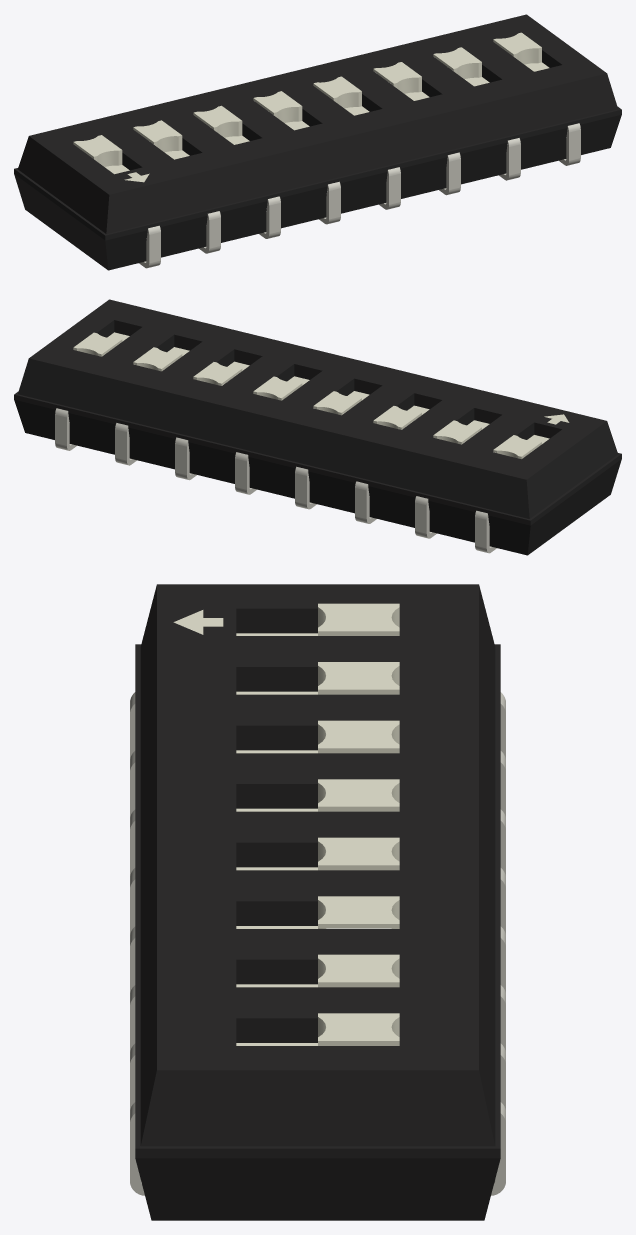
File: kc-sw_dip_spstx08_slide_6.7x21.88mm_w6.73mm_p2.54mm_lowprofile_jpin.glb
3 renders of one model, top to bottom at view 1: azimuth 30°, elevation 25°; view 2: azimuth 150°, elevation 25°; view 3: azimuth 270°, elevation 25°, orthographic. The views are drawn at different scales.
Visible parts, largest first — view 1: 0_0_0_0, 0.75_0.75_0.6666666666666666_0, 0.6666666666666666_0.6666666666666666_0.5833333333333334_0.8; view 2: 0_0_0_0, 0.75_0.75_0.6666666666666666_0, 0.6666666666666666_0.6666666666666666_0.5833333333333334_0.8; view 3: 0_0_0_0, 0.75_0.75_0.6666666666666666_0, 0.6666666666666666_0.6666666666666666_0.5833333333333334_0.8.
Part boxes in pixels (box(x1,y1,x2,y2)): 0_0_0_0: box(14, 14, 621, 270); 0.75_0.75_0.6666666666666666_0: box(73, 32, 549, 182); 0.6666666666666666_0.6666666666666666_0.5833333333333334_0.8: box(139, 123, 580, 268); 0_0_0_0: box(14, 299, 621, 555); 0.75_0.75_0.6666666666666666_0: box(73, 332, 569, 459); 0.6666666666666666_0.6666666666666666_0.5833333333333334_0.8: box(55, 408, 496, 553); 0_0_0_0: box(135, 584, 500, 1220); 0.75_0.75_0.6666666666666666_0: box(173, 603, 399, 1045); 0.6666666666666666_0.6666666666666666_0.5833333333333334_0.8: box(130, 692, 505, 1195).
Size of the model in its own units: 2.19 by 0.33 by 0.69.
